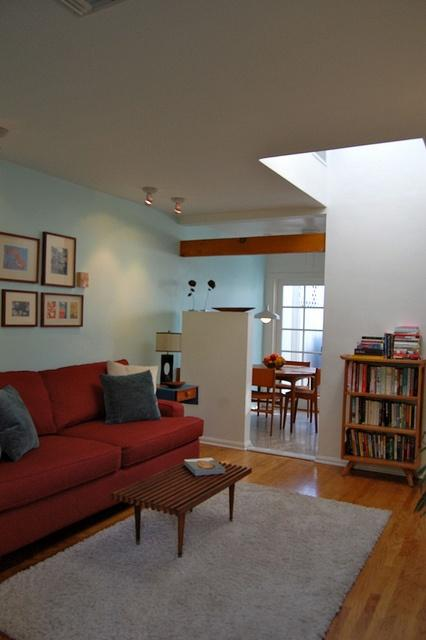Meja: (111, 460, 252, 558)
Rak: (338, 353, 422, 469)
